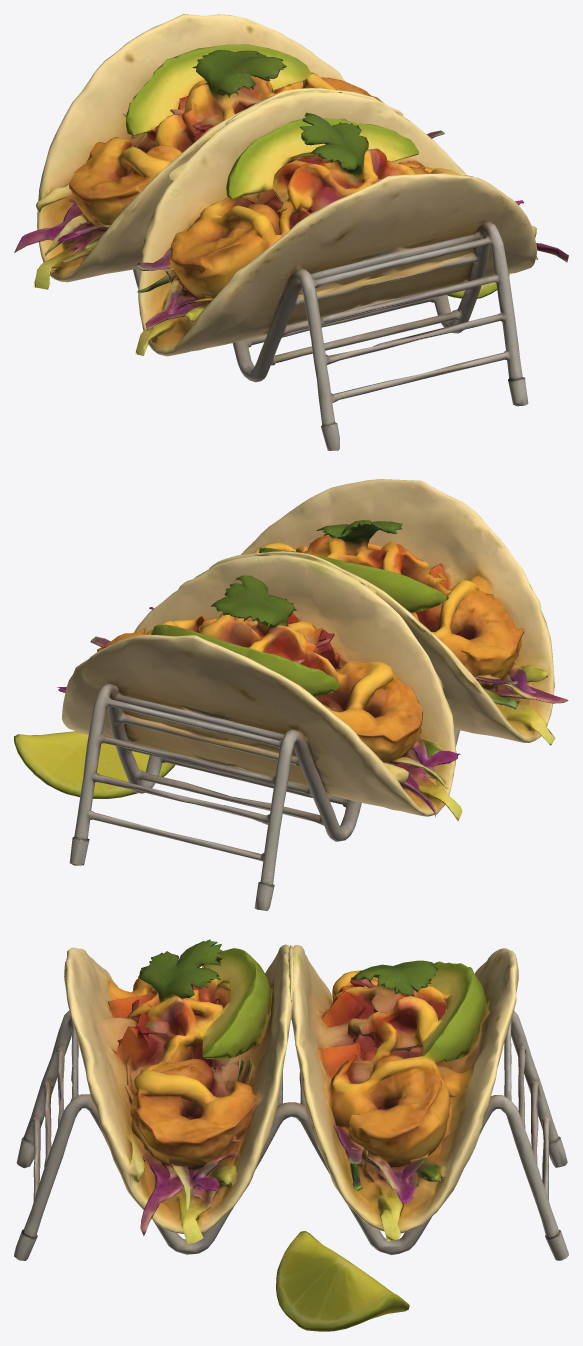
The model's file is p_tacos.glb.
3 views of the same model, one above another, from view 1: azimuth 30°, elevation 25°; view 2: azimuth 150°, elevation 25°; view 3: azimuth 270°, elevation 25° (orthographic). The views are drawn at different scales.
Visible parts, largest first — view 1: tripo_node_4b362abb-567d-479f-868b-5fa1ecab7bb3; view 2: tripo_node_4b362abb-567d-479f-868b-5fa1ecab7bb3; view 3: tripo_node_4b362abb-567d-479f-868b-5fa1ecab7bb3.
Part boxes in pixels (x1,y1,x2,y2): tripo_node_4b362abb-567d-479f-868b-5fa1ecab7bb3: [14, 14, 568, 450]; tripo_node_4b362abb-567d-479f-868b-5fa1ecab7bb3: [14, 479, 568, 910]; tripo_node_4b362abb-567d-479f-868b-5fa1ecab7bb3: [14, 939, 568, 1331].
Bounding box in the file's own units: 0.9761 × 0.5317 × 1.
Materials: 1 (1 with a texture image).
